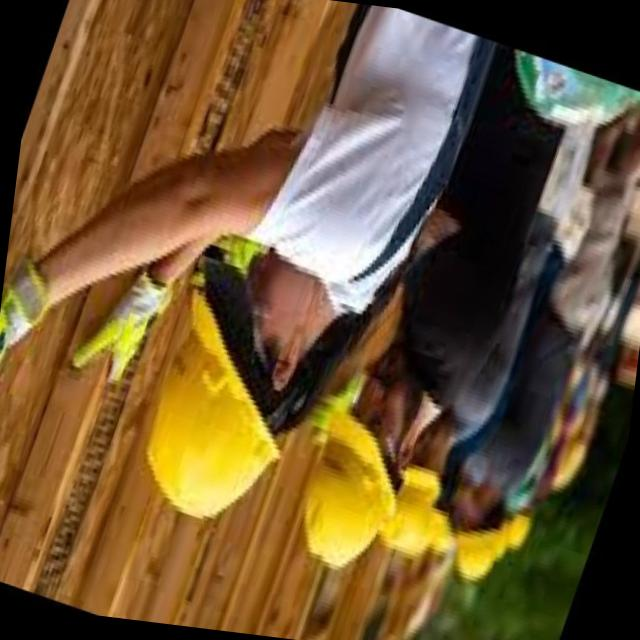gloved: (65, 251, 181, 400), (0, 247, 61, 436)
